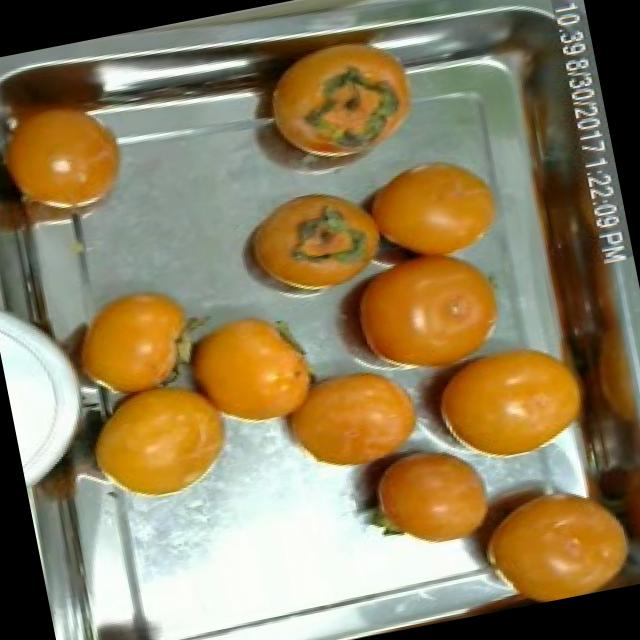Fruit: (299, 224, 528, 388), (405, 319, 614, 488), (64, 360, 258, 526), (442, 455, 640, 617), (0, 41, 153, 245), (246, 24, 438, 182), (162, 288, 338, 450), (218, 170, 394, 316), (47, 266, 214, 416), (258, 352, 441, 488), (345, 138, 516, 278), (346, 427, 514, 569)
